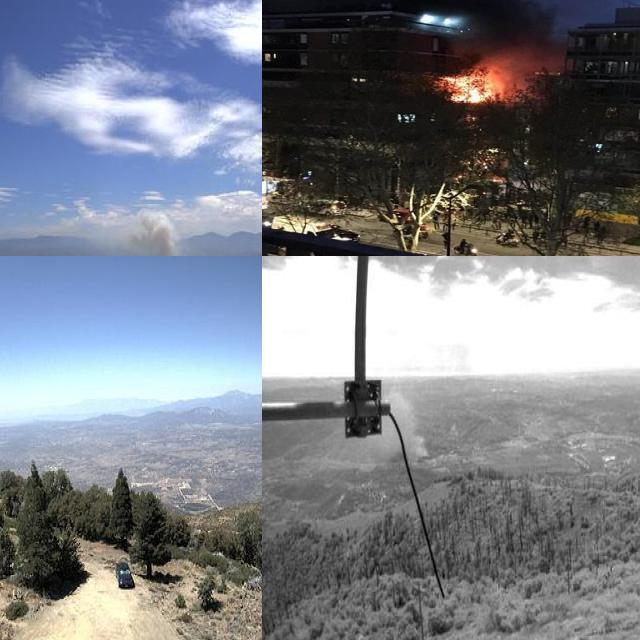fire: (433, 65, 499, 109)
smoke: (77, 204, 184, 256), (384, 386, 429, 466), (490, 49, 552, 88)
